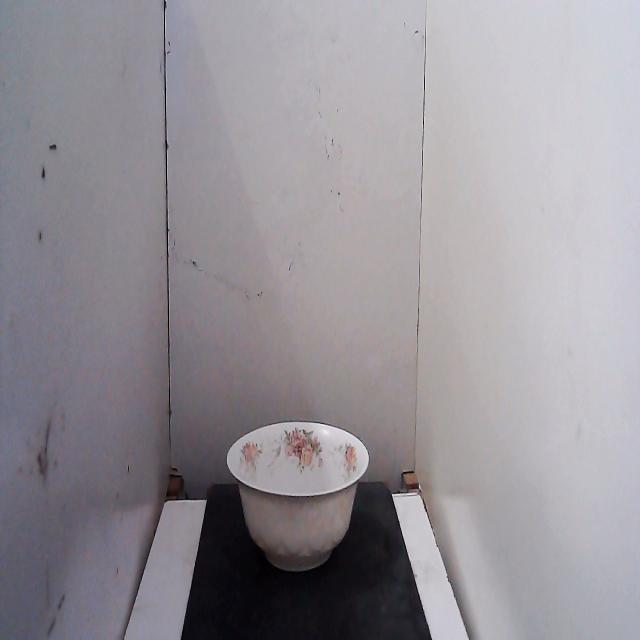plastico: (221, 410, 373, 578)
